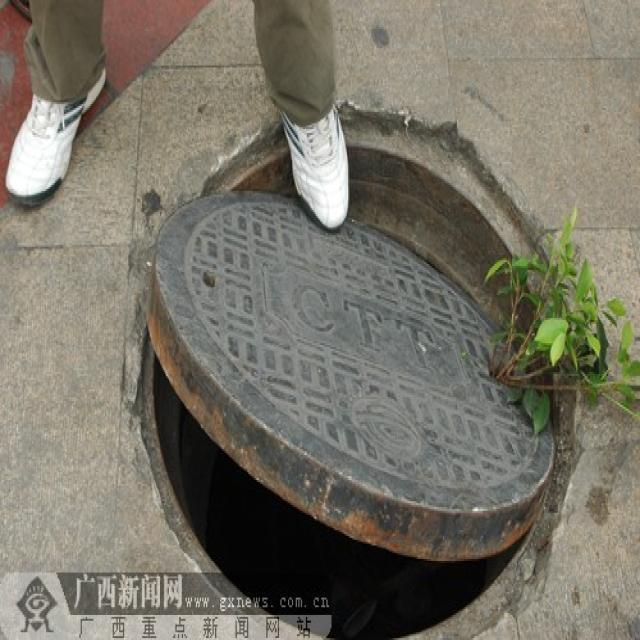manhole: (125, 106, 576, 640)
